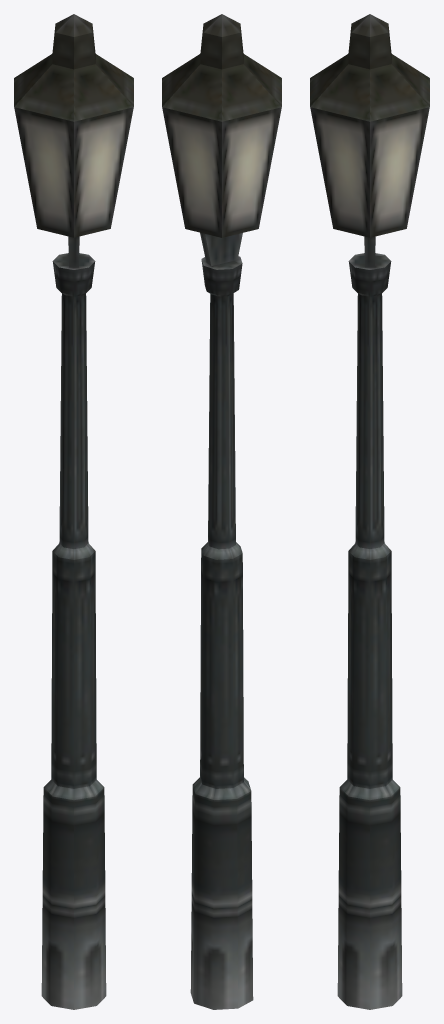
Rendered from lightpost_01.fbx.
The picture shows the model from 3 angles, left to right: view 1: azimuth 90°, elevation 25°; view 2: azimuth 210°, elevation 25°; view 3: azimuth 270°, elevation 25°; orthographic projection.
Visible parts, largest first — view 1: GEOM0_LOD0; view 2: GEOM0_LOD0; view 3: GEOM0_LOD0.
Boxes of the visible parts, x1,y1,x2,y2 form: GEOM0_LOD0: (14, 14, 133, 1009); GEOM0_LOD0: (162, 14, 281, 1009); GEOM0_LOD0: (310, 14, 429, 1009).
Size of the model in its own units: 54.38 by 427 by 47.09.
